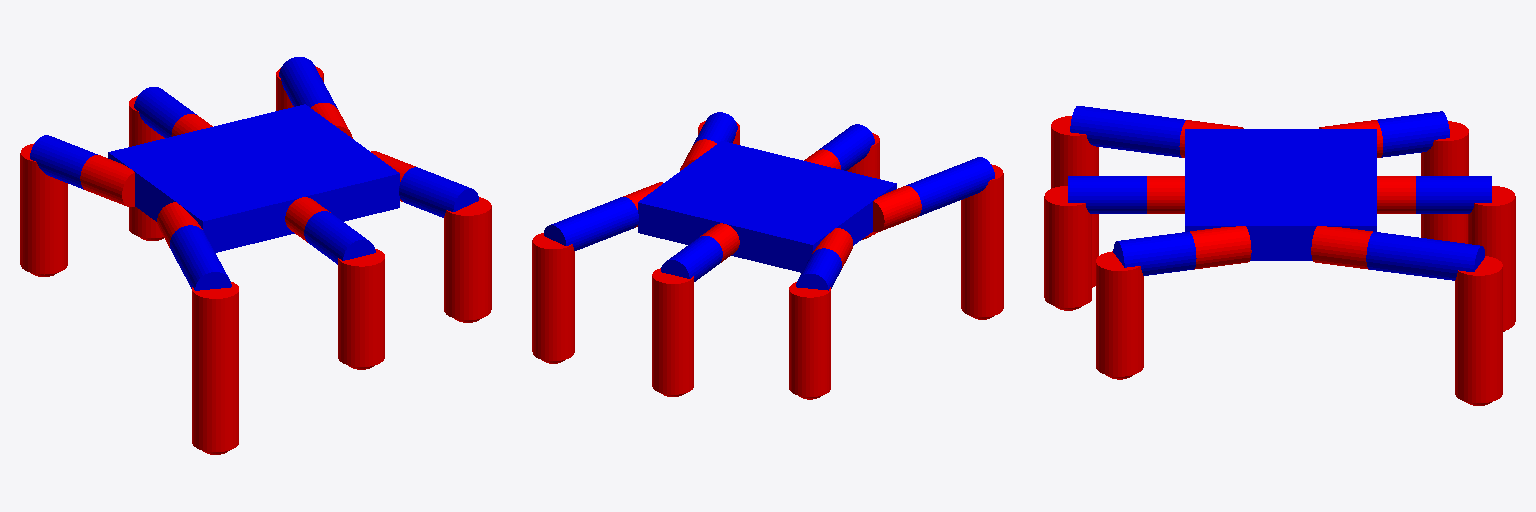
--- Facts derived from the render (not from the file) ---
The picture shows the robot from 3 angles, left to right: view 1: azimuth 30°, elevation 25°; view 2: azimuth 150°, elevation 25°; view 3: azimuth 270°, elevation 25°; orthographic projection.
Robot: pexod — 19 links, 18 joints (18 revolute); root link base_link; default pose: all joints at 0.
Links seen in each view (by area): view 1: base_link, leg_5_3, leg_3_3, leg_4_3, leg_0_3, leg_5_2, leg_3_2, leg_4_2, leg_0_1, leg_0_2, leg_2_2, leg_1_2 (+5 smaller); view 2: base_link, leg_5_3, leg_2_3, leg_1_3, leg_0_3, leg_2_2, leg_5_2, leg_1_2, leg_5_1, leg_4_2, leg_0_2, leg_3_2 (+3 smaller); view 3: base_link, leg_2_3, leg_3_3, leg_4_3, leg_2_2, leg_5_2, leg_1_3, leg_0_3, leg_5_3, leg_4_2, leg_3_2, leg_1_2 (+5 smaller).
Link boxes in pixels (left/top/right/bottom): base_link: left=108, top=104, right=399, bottom=252; leg_5_3: left=192, top=282, right=238, bottom=454; leg_3_3: left=444, top=197, right=491, bottom=322; leg_4_3: left=338, top=249, right=384, bottom=369; leg_0_3: left=20, top=143, right=67, bottom=276; leg_5_2: left=170, top=225, right=231, bottom=290; leg_3_2: left=399, top=167, right=478, bottom=217; leg_4_2: left=304, top=211, right=375, bottom=264; leg_0_1: left=80, top=155, right=134, bottom=206; leg_0_2: left=30, top=135, right=97, bottom=189; leg_2_2: left=279, top=57, right=337, bottom=108; leg_1_2: left=134, top=87, right=196, bottom=137; base_link: left=638, top=141, right=896, bottom=272; leg_5_3: left=961, top=164, right=1003, bottom=319; leg_2_3: left=532, top=233, right=574, bottom=363; leg_1_3: left=652, top=268, right=693, bottom=396; leg_0_3: left=789, top=282, right=830, bottom=399; leg_2_2: left=544, top=197, right=638, bottom=250; leg_5_2: left=906, top=157, right=994, bottom=216; leg_1_2: left=661, top=236, right=722, bottom=281; leg_5_1: left=873, top=186, right=921, bottom=231; leg_4_2: left=819, top=124, right=874, bottom=170; leg_0_2: left=796, top=248, right=841, bottom=290; leg_3_2: left=693, top=112, right=737, bottom=144; base_link: left=1185, top=129, right=1376, bottom=260; leg_2_3: left=1455, top=256, right=1502, bottom=405; leg_3_3: left=1096, top=251, right=1143, bottom=379; leg_4_3: left=1044, top=186, right=1091, bottom=310; leg_2_2: left=1366, top=232, right=1484, bottom=280; leg_5_2: left=1070, top=106, right=1185, bottom=157; leg_1_3: left=1468, top=186, right=1515, bottom=331; leg_0_3: left=1421, top=121, right=1468, bottom=243; leg_5_3: left=1051, top=116, right=1098, bottom=287; leg_4_2: left=1068, top=176, right=1146, bottom=213; leg_3_2: left=1113, top=232, right=1196, bottom=275; leg_1_2: left=1416, top=176, right=1491, bottom=213.
Size in the robot's own frame: 0.3952 by 0.4906 by 0.2109 metres.
Geometry: primitives only (box / cylinder / sphere), no mesh files.

The robot description file, URDF, robot "pexod":
<?xml version="1.0" ?>
<!-- =================================================================================== -->
<!-- |    This document was autogenerated by xacro from pexod.xacro                    | -->
<!-- |    EDITING THIS FILE BY HAND IS NOT RECOMMENDED                                 | -->
<!-- =================================================================================== -->
<robot name="pexod" xmlns:xacro="http://www.ros.org/wiki/xacro">
  <!-- <xacro:include filename="$(find pexod_description)/urdf/pexod_control.xacro" /> -->
  <!-- MATERIALS -->
  <material name="Blue">
    <color rgba="0 0 1 1"/>
  </material>
  <material name="Red">
    <color rgba="1 0 0 1"/>
  </material>
  <material name="Green">
    <color rgba="0 1 0 1"/>
  </material>
  <material name="Yellow">
    <color rgba="1 1 0 1"/>
  </material>
  <material name="LightGrey">
    <color rgba="0.6 0.6 0.6 1.0"/>
  </material>
  <!-- END OF MATERIALS -->
  <!-- XACRO MACROS FOR VISUALS AND COLLISIONS -->
  <!-- END OF XACRO MACROS -->
  <!-- TORSO -->
  <link name="base_link">
    <visual>
      <origin rpy="0 0 0" xyz="0 0 0"/>
      <geometry>
        <box size="0.24 0.2 0.04"/>
      </geometry>
      <material name="Blue"/>
    </visual>
    <collision>
      <origin rpy="0 0 0" xyz="0 0 0"/>
      <geometry>
        <box size="0.24 0.2 0.04"/>
      </geometry>
    </collision>
    <inertial>
      <!-- CENTER OF MASS -->
      <origin rpy="0 0 0" xyz="0 0 0"/>
      <mass value="1.031"/>
      <!-- box inertia: 1/12*m(y^2+z^2), ... -->
      <inertia ixx="0.00357413333333" ixy="0" ixz="0" iyy="0.00508626666667" iyz="0" izz="0.00838546666667"/>
    </inertial>
  </link>
  <!-- XACRO MACRO FOR LEGS LINKS/JOINTS -->
  <!-- END OF LEG LINKS/JOINTS -->
  <joint name="body_leg_2" type="revolute">
    <parent link="base_link"/>
    <child link="leg_2_1"/>
    <limit effort="30.0" lower="-1.57079632679" upper="1.57079632679" velocity="7.0"/>
    <origin rpy="0 0 -0.3" xyz="0.11 0.04 0"/>
    <!-- <xacro:if value="${index == 5 or index == 4 or index == 3}">
                <axis xyz="0 0 1"/>
            </xacro:if>
            <xacro:if value="${index == 2 or index == 1 or index == 0}"> -->
    <axis xyz="0 0 1"/>
    <!-- </xacro:if> -->
    <dynamics damping="0.0"/>
  </joint>
  <link name="leg_2_1">
    <visual>
      <origin rpy="1.57079632679 0 0" xyz="0.01 0.03 0"/>
      <geometry>
        <cylinder length="0.06" radius="0.02"/>
      </geometry>
      <material name="Red"/>
    </visual>
    <collision>
      <origin rpy="1.57079632679 0 0" xyz="0.01 0.03 0"/>
      <geometry>
        <box size="0.02 0.02 0.06"/>
      </geometry>
    </collision>
    <inertial>
      <!-- CENTER OF MASS -->
      <origin rpy="1.57079632679 0 0" xyz="0.01 0.03 0"/>
      <mass value="0.02"/>
      <!-- box inertia: 1/12*m(y^2+z^2), ... -->
      <inertia ixx="6.66666666667e-06" ixy="0" ixz="0" iyy="6.66666666667e-06" iyz="0" izz="1.33333333333e-06"/>
    </inertial>
  </link>
  <joint name="leg_2_1_2" type="revolute">
    <parent link="leg_2_1"/>
    <child link="leg_2_2"/>
    <limit effort="30.0" lower="-0.78539816339" upper="0.78539816339" velocity="7.0"/>
    <origin rpy="0 0 0" xyz="0 0.06 0"/>
    <axis xyz="1 0 0"/>
    <dynamics damping="0.0"/>
  </joint>
  <link name="leg_2_2">
    <visual>
      <origin rpy="1.57079632679 0 0" xyz="0.01 0.0586638286085 0"/>
      <geometry>
        <cylinder length="0.117327657217" radius="0.02"/>
      </geometry>
      <material name="Blue"/>
    </visual>
    <collision>
      <origin rpy="1.57079632679 0 0" xyz="0.01 0.0586638286085 0"/>
      <geometry>
        <box size="0.02 0.02 0.117327657217"/>
      </geometry>
    </collision>
    <inertial>
      <!-- CENTER OF MASS -->
      <origin rpy="1.57079632679 0 0" xyz="0.01 0.0586638286085 0"/>
      <mass value="0.184"/>
      <!-- box inertia: 1/12*m(y^2+z^2), ... -->
      <inertia ixx="0.000217208613603" ixy="0" ixz="0" iyy="0.000217208613603" iyz="0" izz="1.22666666667e-05"/>
    </inertial>
  </link>
  <joint name="leg_2_2_3" type="revolute">
    <parent link="leg_2_2"/>
    <child link="leg_2_3"/>
    <limit effort="30.0" lower="-0.78539816339" upper="0.78539816339" velocity="7.0"/>
    <origin rpy="-1.57079632679 0 0" xyz="0 0.117327657217 0"/>
    <axis xyz="-1 0 0"/>
    <dynamics damping="0.0"/>
  </joint>
  <link name="leg_2_3">
    <visual>
      <origin rpy="1.57079632679 0 0" xyz="0.0125 0.073317208912 0"/>
      <geometry>
        <cylinder length="0.146634417824" radius="0.025"/>
      </geometry>
      <material name="Red"/>
    </visual>
    <visual>
      <origin rpy="1.57079632679 0 0" xyz="0.0125 0.134134417824 0"/>
      <geometry>
        <sphere radius="0.025"/>
      </geometry>
      <material name="Red"/>
    </visual>
    <collision>
      <origin rpy="1.57079632679 0 0" xyz="0.0125 0.073317208912 0"/>
      <geometry>
        <box size="0.025 0.025 0.146634417824"/>
      </geometry>
    </collision>
    <collision>
      <origin rpy="1.57079632679 0 0" xyz="0.0125 0.134134417824 0"/>
      <geometry>
        <sphere radius="0.025"/>
      </geometry>
      <material name="Red"/>
    </collision>
    <inertial>
      <!-- CENTER OF MASS -->
      <origin rpy="1.57079632679 0 0" xyz="0.0125 0.073317208912 0"/>
      <mass value="0.04"/>
      <!-- box inertia: 1/12*m(y^2+z^2), ... -->
      <inertia ixx="7.37555083019e-05" ixy="0" ixz="0" iyy="7.37555083019e-05" iyz="0" izz="4.16666666667e-06"/>
    </inertial>
  </link>
  <joint name="body_leg_3" type="revolute">
    <parent link="base_link"/>
    <child link="leg_3_1"/>
    <limit effort="30.0" lower="-1.57079632679" upper="1.57079632679" velocity="7.0"/>
    <origin rpy="0 0 0.3" xyz="0.11 -0.04 0"/>
    <!-- <xacro:if value="${index == 5 or index == 4 or index == 3}">
                <axis xyz="0 0 1"/>
            </xacro:if>
            <xacro:if value="${index == 2 or index == 1 or index == 0}"> -->
    <axis xyz="0 0 1"/>
    <!-- </xacro:if> -->
    <dynamics damping="0.0"/>
  </joint>
  <link name="leg_3_1">
    <visual>
      <origin rpy="1.57079632679 0 0" xyz="0.01 -0.03 0"/>
      <geometry>
        <cylinder length="0.06" radius="0.02"/>
      </geometry>
      <material name="Red"/>
    </visual>
    <collision>
      <origin rpy="1.57079632679 0 0" xyz="0.01 -0.03 0"/>
      <geometry>
        <box size="0.02 0.02 0.06"/>
      </geometry>
    </collision>
    <inertial>
      <!-- CENTER OF MASS -->
      <origin rpy="1.57079632679 0 0" xyz="0.01 -0.03 0"/>
      <mass value="0.02"/>
      <!-- box inertia: 1/12*m(y^2+z^2), ... -->
      <inertia ixx="6.66666666667e-06" ixy="0" ixz="0" iyy="6.66666666667e-06" iyz="0" izz="1.33333333333e-06"/>
    </inertial>
  </link>
  <joint name="leg_3_1_2" type="revolute">
    <parent link="leg_3_1"/>
    <child link="leg_3_2"/>
    <limit effort="30.0" lower="-0.78539816339" upper="0.78539816339" velocity="7.0"/>
    <origin rpy="0 0 0" xyz="0 -0.06 0"/>
    <axis xyz="-1 0 0"/>
    <dynamics damping="0.0"/>
  </joint>
  <link name="leg_3_2">
    <visual>
      <origin rpy="1.57079632679 0 0" xyz="0.01 -0.0391346587533 0"/>
      <geometry>
        <cylinder length="0.0782693175066" radius="0.02"/>
      </geometry>
      <material name="Blue"/>
    </visual>
    <collision>
      <origin rpy="1.57079632679 0 0" xyz="0.01 -0.0391346587533 0"/>
      <geometry>
        <box size="0.02 0.02 0.0782693175066"/>
      </geometry>
    </collision>
    <inertial>
      <!-- CENTER OF MASS -->
      <origin rpy="1.57079632679 0 0" xyz="0.01 -0.0391346587533 0"/>
      <mass value="0.184"/>
      <!-- box inertia: 1/12*m(y^2+z^2), ... -->
      <inertia ixx="0.000100066652965" ixy="0" ixz="0" iyy="0.000100066652965" iyz="0" izz="1.22666666667e-05"/>
    </inertial>
  </link>
  <joint name="leg_3_2_3" type="revolute">
    <parent link="leg_3_2"/>
    <child link="leg_3_3"/>
    <limit effort="30.0" lower="-0.78539816339" upper="0.78539816339" velocity="7.0"/>
    <origin rpy="1.57079632679 0 0" xyz="0 -0.0782693175066 0"/>
    <axis xyz="1 0 0"/>
    <dynamics damping="0.0"/>
  </joint>
  <link name="leg_3_3">
    <visual>
      <origin rpy="1.57079632679 0 0" xyz="0.0125 -0.0606754559175 0"/>
      <geometry>
        <cylinder length="0.121350911835" radius="0.025"/>
      </geometry>
      <material name="Red"/>
    </visual>
    <visual>
      <origin rpy="1.57079632679 0 0" xyz="0.0125 -0.108850911835 0"/>
      <geometry>
        <sphere radius="0.025"/>
      </geometry>
      <material name="Red"/>
    </visual>
    <collision>
      <origin rpy="1.57079632679 0 0" xyz="0.0125 -0.0606754559175 0"/>
      <geometry>
        <box size="0.025 0.025 0.121350911835"/>
      </geometry>
    </collision>
    <collision>
      <origin rpy="1.57079632679 0 0" xyz="0.0125 -0.108850911835 0"/>
      <geometry>
        <sphere radius="0.025"/>
      </geometry>
      <material name="Red"/>
    </collision>
    <inertial>
      <!-- CENTER OF MASS -->
      <origin rpy="1.57079632679 0 0" xyz="0.0125 -0.0606754559175 0"/>
      <mass value="0.04"/>
      <!-- box inertia: 1/12*m(y^2+z^2), ... -->
      <inertia ixx="5.11701460106e-05" ixy="0" ixz="0" iyy="5.11701460106e-05" iyz="0" izz="4.16666666667e-06"/>
    </inertial>
  </link>
  <joint name="body_leg_0" type="revolute">
    <parent link="base_link"/>
    <child link="leg_0_1"/>
    <limit effort="30.0" lower="-1.57079632679" upper="1.57079632679" velocity="7.0"/>
    <origin rpy="0 0 0.3" xyz="-0.13 0.04 0"/>
    <!-- <xacro:if value="${index == 5 or index == 4 or index == 3}">
                <axis xyz="0 0 1"/>
            </xacro:if>
            <xacro:if value="${index == 2 or index == 1 or index == 0}"> -->
    <axis xyz="0 0 1"/>
    <!-- </xacro:if> -->
    <dynamics damping="0.0"/>
  </joint>
  <link name="leg_0_1">
    <visual>
      <origin rpy="1.57079632679 0 0" xyz="0.01 0.03 0"/>
      <geometry>
        <cylinder length="0.06" radius="0.02"/>
      </geometry>
      <material name="Red"/>
    </visual>
    <collision>
      <origin rpy="1.57079632679 0 0" xyz="0.01 0.03 0"/>
      <geometry>
        <box size="0.02 0.02 0.06"/>
      </geometry>
    </collision>
    <inertial>
      <!-- CENTER OF MASS -->
      <origin rpy="1.57079632679 0 0" xyz="0.01 0.03 0"/>
      <mass value="0.02"/>
      <!-- box inertia: 1/12*m(y^2+z^2), ... -->
      <inertia ixx="6.66666666667e-06" ixy="0" ixz="0" iyy="6.66666666667e-06" iyz="0" izz="1.33333333333e-06"/>
    </inertial>
  </link>
  <joint name="leg_0_1_2" type="revolute">
    <parent link="leg_0_1"/>
    <child link="leg_0_2"/>
    <limit effort="30.0" lower="-0.78539816339" upper="0.78539816339" velocity="7.0"/>
    <origin rpy="0 0 0" xyz="0 0.06 0"/>
    <axis xyz="1 0 0"/>
    <dynamics damping="0.0"/>
  </joint>
  <link name="leg_0_2">
    <visual>
      <origin rpy="1.57079632679 0 0" xyz="0.01 0.0363825241938 0"/>
      <geometry>
        <cylinder length="0.0727650483876" radius="0.02"/>
      </geometry>
      <material name="Blue"/>
    </visual>
    <collision>
      <origin rpy="1.57079632679 0 0" xyz="0.01 0.0363825241938 0"/>
      <geometry>
        <box size="0.02 0.02 0.0727650483876"/>
      </geometry>
    </collision>
    <inertial>
      <!-- CENTER OF MASS -->
      <origin rpy="1.57079632679 0 0" xyz="0.01 0.0363825241938 0"/>
      <mass value="0.184"/>
      <!-- box inertia: 1/12*m(y^2+z^2), ... -->
      <inertia ixx="8.73195347584e-05" ixy="0" ixz="0" iyy="8.73195347584e-05" iyz="0" izz="1.22666666667e-05"/>
    </inertial>
  </link>
  <joint name="leg_0_2_3" type="revolute">
    <parent link="leg_0_2"/>
    <child link="leg_0_3"/>
    <limit effort="30.0" lower="-0.78539816339" upper="0.78539816339" velocity="7.0"/>
    <origin rpy="-1.57079632679 0 0" xyz="0 0.0727650483876 0"/>
    <axis xyz="-1 0 0"/>
    <dynamics damping="0.0"/>
  </joint>
  <link name="leg_0_3">
    <visual>
      <origin rpy="1.57079632679 0 0" xyz="0.0125 0.0651991275555 0"/>
      <geometry>
        <cylinder length="0.130398255111" radius="0.025"/>
      </geometry>
      <material name="Red"/>
    </visual>
    <visual>
      <origin rpy="1.57079632679 0 0" xyz="0.0125 0.117898255111 0"/>
      <geometry>
        <sphere radius="0.025"/>
      </geometry>
      <material name="Red"/>
    </visual>
    <collision>
      <origin rpy="1.57079632679 0 0" xyz="0.0125 0.0651991275555 0"/>
      <geometry>
        <box size="0.025 0.025 0.130398255111"/>
      </geometry>
    </collision>
    <collision>
      <origin rpy="1.57079632679 0 0" xyz="0.0125 0.117898255111 0"/>
      <geometry>
        <sphere radius="0.025"/>
      </geometry>
      <material name="Red"/>
    </collision>
    <inertial>
      <!-- CENTER OF MASS -->
      <origin rpy="1.57079632679 0 0" xyz="0.0125 0.0651991275555 0"/>
      <mass value="0.04"/>
      <!-- box inertia: 1/12*m(y^2+z^2), ... -->
      <inertia ixx="5.87623497866e-05" ixy="0" ixz="0" iyy="5.87623497866e-05" iyz="0" izz="4.16666666667e-06"/>
    </inertial>
  </link>
  <joint name="body_leg_5" type="revolute">
    <parent link="base_link"/>
    <child link="leg_5_1"/>
    <limit effort="30.0" lower="-1.57079632679" upper="1.57079632679" velocity="7.0"/>
    <origin rpy="0 0 -0.3" xyz="-0.13 -0.04 0"/>
    <!-- <xacro:if value="${index == 5 or index == 4 or index == 3}">
                <axis xyz="0 0 1"/>
            </xacro:if>
            <xacro:if value="${index == 2 or index == 1 or index == 0}"> -->
    <axis xyz="0 0 1"/>
    <!-- </xacro:if> -->
    <dynamics damping="0.0"/>
  </joint>
  <link name="leg_5_1">
    <visual>
      <origin rpy="1.57079632679 0 0" xyz="0.01 -0.03 0"/>
      <geometry>
        <cylinder length="0.06" radius="0.02"/>
      </geometry>
      <material name="Red"/>
    </visual>
    <collision>
      <origin rpy="1.57079632679 0 0" xyz="0.01 -0.03 0"/>
      <geometry>
        <box size="0.02 0.02 0.06"/>
      </geometry>
    </collision>
    <inertial>
      <!-- CENTER OF MASS -->
      <origin rpy="1.57079632679 0 0" xyz="0.01 -0.03 0"/>
      <mass value="0.02"/>
      <!-- box inertia: 1/12*m(y^2+z^2), ... -->
      <inertia ixx="6.66666666667e-06" ixy="0" ixz="0" iyy="6.66666666667e-06" iyz="0" izz="1.33333333333e-06"/>
    </inertial>
  </link>
  <joint name="leg_5_1_2" type="revolute">
    <parent link="leg_5_1"/>
    <child link="leg_5_2"/>
    <limit effort="30.0" lower="-0.78539816339" upper="0.78539816339" velocity="7.0"/>
    <origin rpy="0 0 0" xyz="0 -0.06 0"/>
    <axis xyz="-1 0 0"/>
    <dynamics damping="0.0"/>
  </joint>
  <link name="leg_5_2">
    <visual>
      <origin rpy="1.57079632679 0 0" xyz="0.01 -0.05961929021 0"/>
      <geometry>
        <cylinder length="0.11923858042" radius="0.02"/>
      </geometry>
      <material name="Blue"/>
    </visual>
    <collision>
      <origin rpy="1.57079632679 0 0" xyz="0.01 -0.05961929021 0"/>
      <geometry>
        <box size="0.02 0.02 0.11923858042"/>
      </geometry>
    </collision>
    <inertial>
      <!-- CENTER OF MASS -->
      <origin rpy="1.57079632679 0 0" xyz="0.01 -0.05961929021 0"/>
      <mass value="0.184"/>
      <!-- box inertia: 1/12*m(y^2+z^2), ... -->
      <inertia ixx="0.000224140198929" ixy="0" ixz="0" iyy="0.000224140198929" iyz="0" izz="1.22666666667e-05"/>
    </inertial>
  </link>
  <joint name="leg_5_2_3" type="revolute">
    <parent link="leg_5_2"/>
    <child link="leg_5_3"/>
    <limit effort="30.0" lower="-0.78539816339" upper="0.78539816339" velocity="7.0"/>
    <origin rpy="1.57079632679 0 0" xyz="0 -0.11923858042 0"/>
    <axis xyz="1 0 0"/>
    <dynamics damping="0.0"/>
  </joint>
  <link name="leg_5_3">
    <visual>
      <origin rpy="1.57079632679 0 0" xyz="0.0125 -0.08918609363 0"/>
      <geometry>
        <cylinder length="0.17837218726" radius="0.025"/>
      </geometry>
      <material name="Red"/>
    </visual>
    <visual>
      <origin rpy="1.57079632679 0 0" xyz="0.0125 -0.16587218726 0"/>
      <geometry>
        <sphere radius="0.025"/>
      </geometry>
      <material name="Red"/>
    </visual>
    <collision>
      <origin rpy="1.57079632679 0 0" xyz="0.0125 -0.08918609363 0"/>
      <geometry>
        <box size="0.025 0.025 0.17837218726"/>
      </geometry>
    </collision>
    <collision>
      <origin rpy="1.57079632679 0 0" xyz="0.0125 -0.16587218726 0"/>
      <geometry>
        <sphere radius="0.025"/>
      </geometry>
      <material name="Red"/>
    </collision>
    <inertial>
      <!-- CENTER OF MASS -->
      <origin rpy="1.57079632679 0 0" xyz="0.0125 -0.08918609363 0"/>
      <mass value="0.04"/>
      <!-- box inertia: 1/12*m(y^2+z^2), ... -->
      <inertia ixx="0.000108138790626" ixy="0" ixz="0" iyy="0.000108138790626" iyz="0" izz="4.16666666667e-06"/>
    </inertial>
  </link>
  <joint name="body_leg_1" type="revolute">
    <parent link="base_link"/>
    <child link="leg_1_1"/>
    <limit effort="30.0" lower="-1.57079632679" upper="1.57079632679" velocity="7.0"/>
    <origin rpy="0 0 0" xyz="-0.01 0.08 0"/>
    <!-- <xacro:if value="${index == 5 or index == 4 or index == 3}">
                <axis xyz="0 0 1"/>
            </xacro:if>
            <xacro:if value="${index == 2 or index == 1 or index == 0}"> -->
    <axis xyz="0 0 1"/>
    <!-- </xacro:if> -->
    <dynamics damping="0.0"/>
  </joint>
  <link name="leg_1_1">
    <visual>
      <origin rpy="1.57079632679 0 0" xyz="0.01 0.03 0"/>
      <geometry>
        <cylinder length="0.06" radius="0.02"/>
      </geometry>
      <material name="Red"/>
    </visual>
    <collision>
      <origin rpy="1.57079632679 0 0" xyz="0.01 0.03 0"/>
      <geometry>
        <box size="0.02 0.02 0.06"/>
      </geometry>
    </collision>
    <inertial>
      <!-- CENTER OF MASS -->
      <origin rpy="1.57079632679 0 0" xyz="0.01 0.03 0"/>
      <mass value="0.02"/>
      <!-- box inertia: 1/12*m(y^2+z^2), ... -->
      <inertia ixx="6.66666666667e-06" ixy="0" ixz="0" iyy="6.66666666667e-06" iyz="0" izz="1.33333333333e-06"/>
    </inertial>
  </link>
  <joint name="leg_1_1_2" type="revolute">
    <parent link="leg_1_1"/>
    <child link="leg_1_2"/>
    <limit effort="30.0" lower="-0.78539816339" upper="0.78539816339" velocity="7.0"/>
    <origin rpy="0 0 0" xyz="0 0.06 0"/>
    <axis xyz="1 0 0"/>
    <dynamics damping="0.0"/>
  </joint>
  <link name="leg_1_2">
    <visual>
      <origin rpy="1.57079632679 0 0" xyz="0.01 0.0394005473691 0"/>
      <geometry>
        <cylinder length="0.0788010947382" radius="0.02"/>
      </geometry>
      <material name="Blue"/>
    </visual>
    <collision>
      <origin rpy="1.57079632679 0 0" xyz="0.01 0.0394005473691 0"/>
      <geometry>
        <box size="0.02 0.02 0.0788010947382"/>
      </geometry>
    </collision>
    <inertial>
      <!-- CENTER OF MASS -->
      <origin rpy="1.57079632679 0 0" xyz="0.01 0.0394005473691 0"/>
      <mass value="0.184"/>
      <!-- box inertia: 1/12*m(y^2+z^2), ... -->
      <inertia ixx="0.000101347392156" ixy="0" ixz="0" iyy="0.000101347392156" iyz="0" izz="1.22666666667e-05"/>
    </inertial>
  </link>
  <joint name="leg_1_2_3" type="revolute">
    <parent link="leg_1_2"/>
    <child link="leg_1_3"/>
    <limit effort="30.0" lower="-0.78539816339" upper="0.78539816339" velocity="7.0"/>
    <origin rpy="-1.57079632679 0 0" xyz="0 0.0788010947382 0"/>
    <axis xyz="-1 0 0"/>
    <dynamics damping="0.0"/>
  </joint>
  <link name="leg_1_3">
    <visual>
      <origin rpy="1.57079632679 0 0" xyz="0.0125 0.072600882838 0"/>
      <geometry>
        <cylinder length="0.145201765676" radius="0.025"/>
      </geometry>
      <material name="Red"/>
    </visual>
    <visual>
      <origin rpy="1.57079632679 0 0" xyz="0.0125 0.132701765676 0"/>
      <geometry>
        <sphere radius="0.025"/>
      </geometry>
      <material name="Red"/>
    </visual>
    <collision>
      <origin rpy="1.57079632679 0 0" xyz="0.0125 0.072600882838 0"/>
      <geometry>
        <box size="0.025 0.025 0.145201765676"/>
      </geometry>
    </collision>
    <collision>
      <origin rpy="1.57079632679 0 0" xyz="0.0125 0.132701765676 0"/>
      <geometry>
        <sphere radius="0.025"/>
      </geometry>
      <material name="Red"/>
    </collision>
    <inertial>
      <!-- CENTER OF MASS -->
      <origin rpy="1.57079632679 0 0" xyz="0.0125 0.072600882838 0"/>
      <mass value="0.04"/>
      <!-- box inertia: 1/12*m(y^2+z^2), ... -->
      <inertia ixx="7.23618425181e-05" ixy="0" ixz="0" iyy="7.23618425181e-05" iyz="0" izz="4.16666666667e-06"/>
    </inertial>
  </link>
  <joint name="body_leg_4" type="revolute">
    <parent link="base_link"/>
    <child link="leg_4_1"/>
    <limit effort="30.0" lower="-1.57079632679" upper="1.57079632679" velocity="7.0"/>
    <origin rpy="0 0 0" xyz="-0.01 -0.08 0"/>
    <!-- <xacro:if value="${index == 5 or index == 4 or index == 3}">
                <axis xyz="0 0 1"/>
            </xacro:if>
            <xacro:if value="${index == 2 or index == 1 or index == 0}"> -->
    <axis xyz="0 0 1"/>
    <!-- </xacro:if> -->
    <dynamics damping="0.0"/>
  </joint>
  <link name="leg_4_1">
    <visual>
      <origin rpy="1.57079632679 0 0" xyz="0.01 -0.03 0"/>
      <geometry>
        <cylinder length="0.06" radius="0.02"/>
      </geometry>
      <material name="Red"/>
    </visual>
    <collision>
      <origin rpy="1.57079632679 0 0" xyz="0.01 -0.03 0"/>
      <geometry>
        <box size="0.02 0.02 0.06"/>
      </geometry>
    </collision>
    <inertial>
      <!-- CENTER OF MASS -->
      <origin rpy="1.57079632679 0 0" xyz="0.01 -0.03 0"/>
      <mass value="0.02"/>
      <!-- box inertia: 1/12*m(y^2+z^2), ... -->
      <inertia ixx="6.66666666667e-06" ixy="0" ixz="0" iyy="6.66666666667e-06" iyz="0" izz="1.33333333333e-06"/>
    </inertial>
  </link>
  <joint name="leg_4_1_2" type="revolute">
    <parent link="leg_4_1"/>
    <child link="leg_4_2"/>
    <limit effort="30.0" lower="-0.78539816339" upper="0.78539816339" velocity="7.0"/>
    <origin rpy="0 0 0" xyz="0 -0.06 0"/>
    <axis xyz="-1 0 0"/>
    <dynamics damping="0.0"/>
  </joint>
  <link name="leg_4_2">
    <visual>
      <origin rpy="1.57079632679 0 0" xyz="0.01 -0.0408967091799 0"/>
      <geometry>
        <cylinder length="0.0817934183598" radius="0.02"/>
      </geometry>
      <material name="Blue"/>
    </visual>
    <collision>
      <origin rpy="1.57079632679 0 0" xyz="0.01 -0.0408967091799 0"/>
      <geometry>
        <box size="0.02 0.02 0.0817934183598"/>
      </geometry>
    </collision>
    <inertial>
      <!-- CENTER OF MASS -->
      <origin rpy="1.57079632679 0 0" xyz="0.01 -0.0408967091799 0"/>
      <mass value="0.184"/>
      <!-- box inertia: 1/12*m(y^2+z^2), ... -->
      <inertia ixx="0.000108715837067" ixy="0" ixz="0" iyy="0.000108715837067" iyz="0" izz="1.22666666667e-05"/>
    </inertial>
  </link>
  <joint name="leg_4_2_3" type="revolute">
    <parent link="leg_4_2"/>
    <child link="leg_4_3"/>
    <limit effort="30.0" lower="-0.78539816339" upper="0.78539816339" velocity="7.0"/>
    <origin rpy="1.57079632679 0 0" xyz="0 -0.0817934183598 0"/>
    <axis xyz="1 0 0"/>
    <dynamics damping="0.0"/>
  </joint>
  <link name="leg_4_3">
    <visual>
      <origin rpy="1.57079632679 0 0" xyz="0.0125 -0.0584958457415 0"/>
      <geometry>
        <cylinder length="0.116991691483" radius="0.025"/>
      </geometry>
      <material name="Red"/>
    </visual>
    <visual>
      <origin rpy="1.57079632679 0 0" xyz="0.0125 -0.104491691483 0"/>
      <geometry>
        <sphere radius="0.025"/>
      </geometry>
      <material name="Red"/>
    </visual>
    <collision>
      <origin rpy="1.57079632679 0 0" xyz="0.0125 -0.0584958457415 0"/>
      <geometry>
        <box size="0.025 0.025 0.116991691483"/>
      </geometry>
    </collision>
    <collision>
      <origin rpy="1.57079632679 0 0" xyz="0.0125 -0.104491691483 0"/>
      <geometry>
        <sphere radius="0.025"/>
      </geometry>
      <material name="Red"/>
    </collision>
    <inertial>
      <!-- CENTER OF MASS -->
      <origin rpy="1.57079632679 0 0" xyz="0.0125 -0.0584958457415 0"/>
      <mass value="0.04"/>
      <!-- box inertia: 1/12*m(y^2+z^2), ... -->
      <inertia ixx="4.77068529202e-05" ixy="0" ixz="0" iyy="4.77068529202e-05" iyz="0" izz="4.16666666667e-06"/>
    </inertial>
  </link>
  <!-- END OF LEG LINKS/JOINTS -->
</robot>
